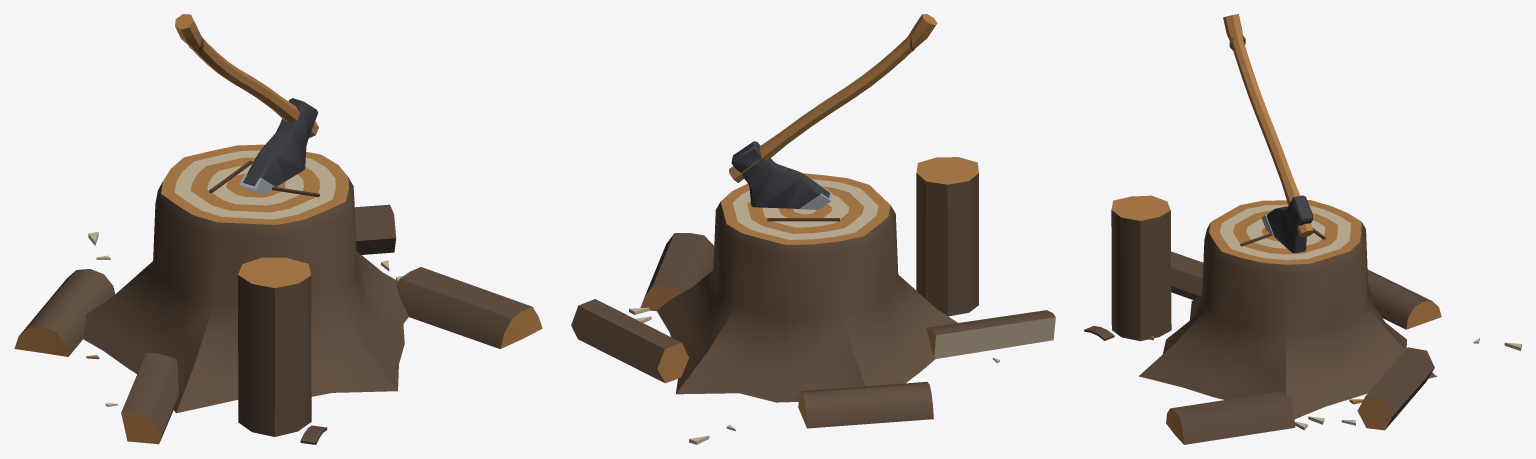
The model's file is deco_chopping_block.fbx.
The picture shows the model from 3 angles, left to right: view 1: azimuth 30°, elevation 25°; view 2: azimuth 150°, elevation 25°; view 3: azimuth 270°, elevation 25°; orthographic projection. The views are drawn at different scales.
Visible parts, largest first — view 1: ChoppingBlock_Stump, ChoppingBlock_Splits, ChoppingBlock_Axe, ChoppingBlock_Chips; view 2: ChoppingBlock_Stump, ChoppingBlock_Splits, ChoppingBlock_Axe; view 3: ChoppingBlock_Stump, ChoppingBlock_Splits, ChoppingBlock_Axe, ChoppingBlock_Chips.
Boxes of the visible parts, x1=… form: ChoppingBlock_Stump: x1=83, y1=144, x2=408, y2=413; ChoppingBlock_Splits: x1=14, y1=204, x2=542, y2=444; ChoppingBlock_Axe: x1=175, y1=14, x2=318, y2=194; ChoppingBlock_Chips: x1=86, y1=232, x2=402, y2=444; ChoppingBlock_Stump: x1=657, y1=173, x2=957, y2=402; ChoppingBlock_Splits: x1=571, y1=157, x2=1055, y2=428; ChoppingBlock_Axe: x1=729, y1=14, x2=937, y2=209; ChoppingBlock_Stump: x1=1139, y1=200, x2=1436, y2=418; ChoppingBlock_Splits: x1=1111, y1=195, x2=1441, y2=444; ChoppingBlock_Axe: x1=1223, y1=14, x2=1313, y2=253; ChoppingBlock_Chips: x1=1084, y1=326, x2=1521, y2=430.
Bounding box in the file's own units: 184 × 152 × 198.
